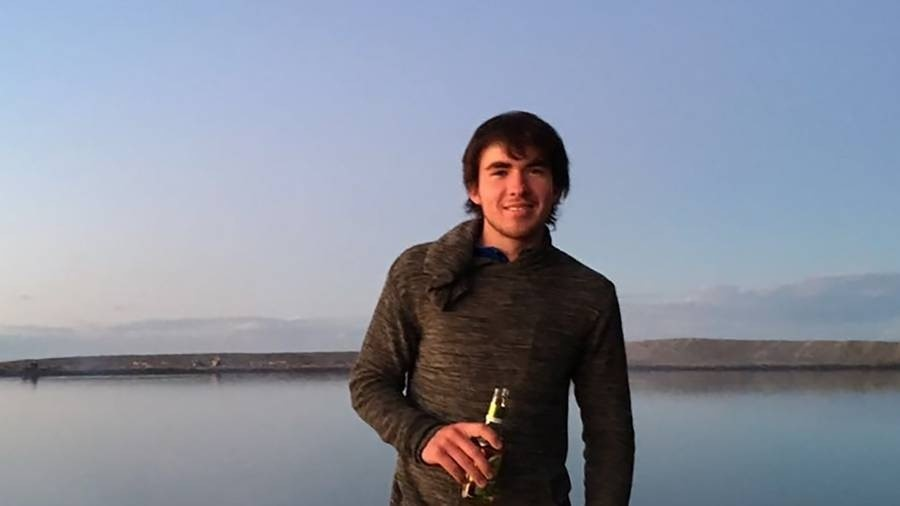face_no_mask: (462, 109, 569, 236)
